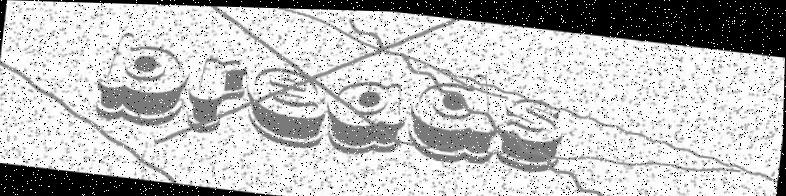a: (323, 73, 409, 160)
b: (94, 29, 192, 128)
d: (405, 63, 503, 165)
e: (240, 62, 332, 149)
r: (183, 51, 250, 138)
s: (490, 88, 570, 171)
